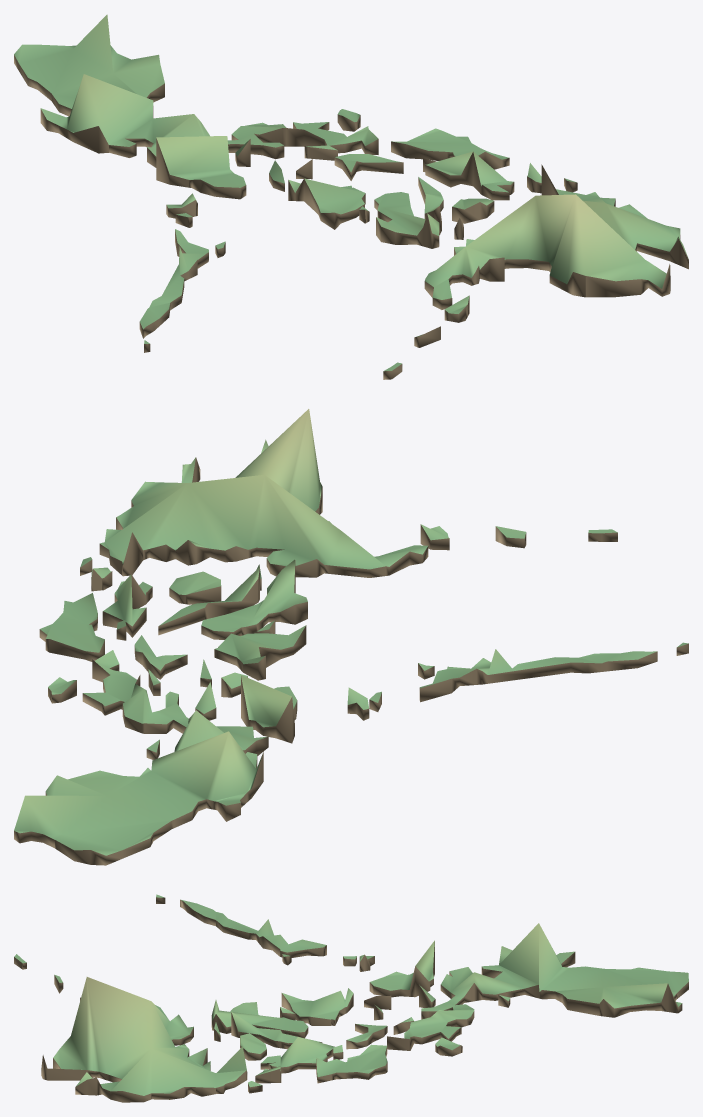
Rendered from PHL.glb.
3 views of the same model, one above another, from view 1: azimuth 30°, elevation 25°; view 2: azimuth 150°, elevation 25°; view 3: azimuth 270°, elevation 25° (orthographic). The views are drawn at different scales.
Parts seen in each view (by area): view 1: PHL; view 2: PHL; view 3: PHL.
Boxes of the visible parts, x1=… form: PHL: x1=14, y1=14, x2=688, y2=379; PHL: x1=14, y1=409, x2=688, y2=865; PHL: x1=14, y1=894, x2=688, y2=1102.
Size of the model in its own units: 1.25 by 0.2214 by 1.77.
